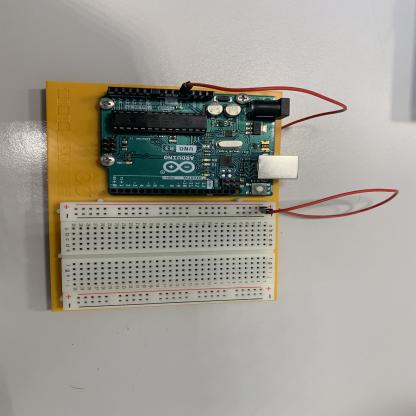5V: (177, 70, 358, 171), (270, 182, 408, 223)
ARDUINO: (99, 86, 279, 197)
Breadboard: (59, 201, 277, 311)
